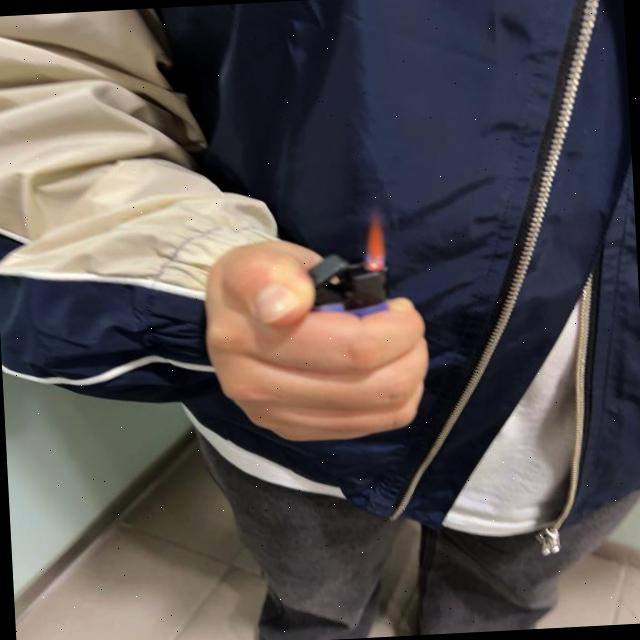fire: (361, 208, 388, 274)
